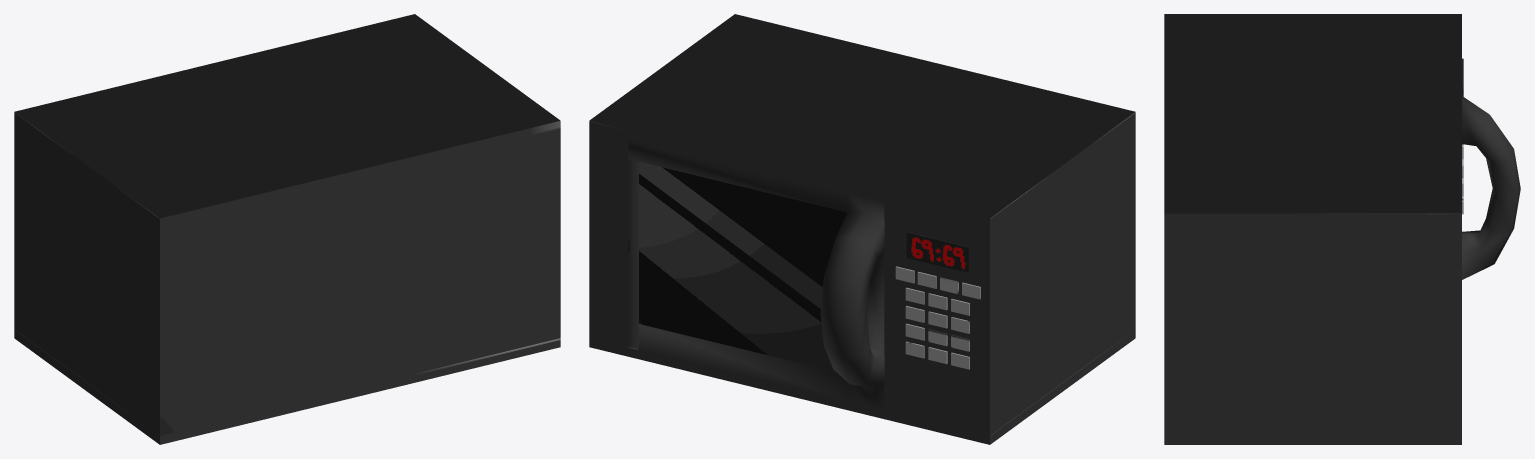
File: MicrowaveUVFriendly.fbx
The picture shows the model from 3 angles, left to right: view 1: azimuth 30°, elevation 25°; view 2: azimuth 150°, elevation 25°; view 3: azimuth 270°, elevation 25°; orthographic projection. The views are drawn at different scales.
Visible parts, largest first — view 1: Microwave; view 2: Microwave; view 3: Microwave.
Boxes of the visible parts, x1,y1,x2,y2 form: Microwave: (14, 14, 560, 444); Microwave: (589, 14, 1135, 444); Microwave: (1164, 14, 1520, 444).
Size of the model in its own units: 208 by 112 by 157.
